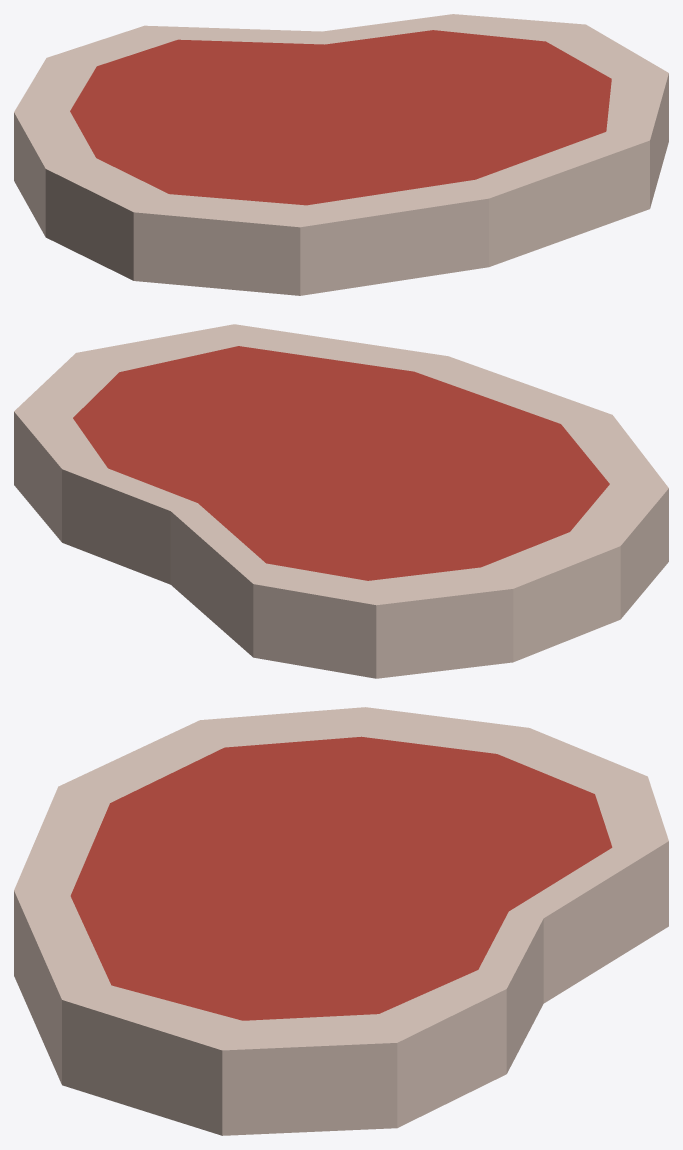
Rendered from Steak.fbx.
3 views of the same model, one above another, from view 1: azimuth 30°, elevation 25°; view 2: azimuth 150°, elevation 25°; view 3: azimuth 270°, elevation 25° (orthographic). The views are drawn at different scales.
Parts seen in each view (by area): view 1: Steak; view 2: Steak; view 3: Steak.
Boxes of the visible parts, x1,y1,x2,y2 form: Steak: (14, 14, 668, 295); Steak: (14, 324, 668, 678); Steak: (14, 707, 668, 1135).
Bounding box in the file's own units: 7.43 × 0.8613 × 5.99.
